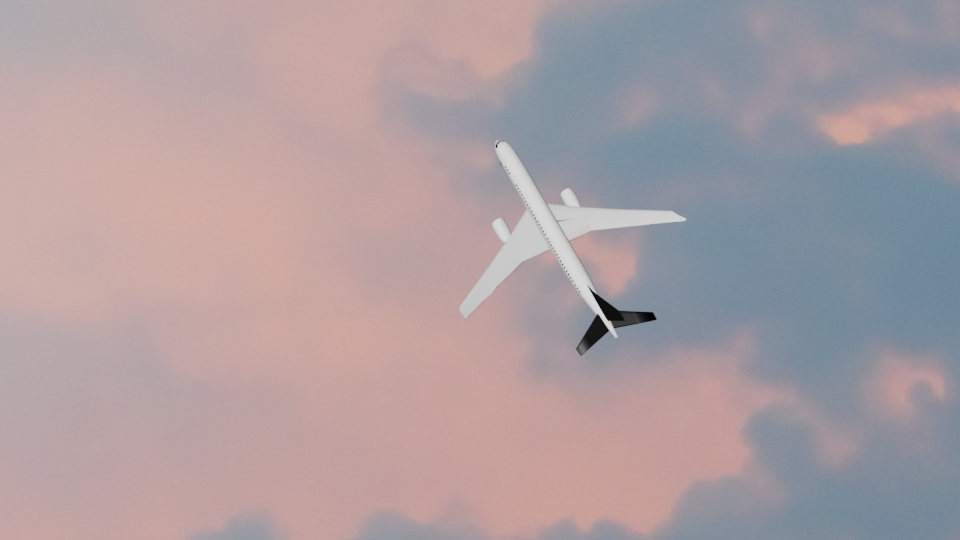plane: (456, 137, 688, 355)
